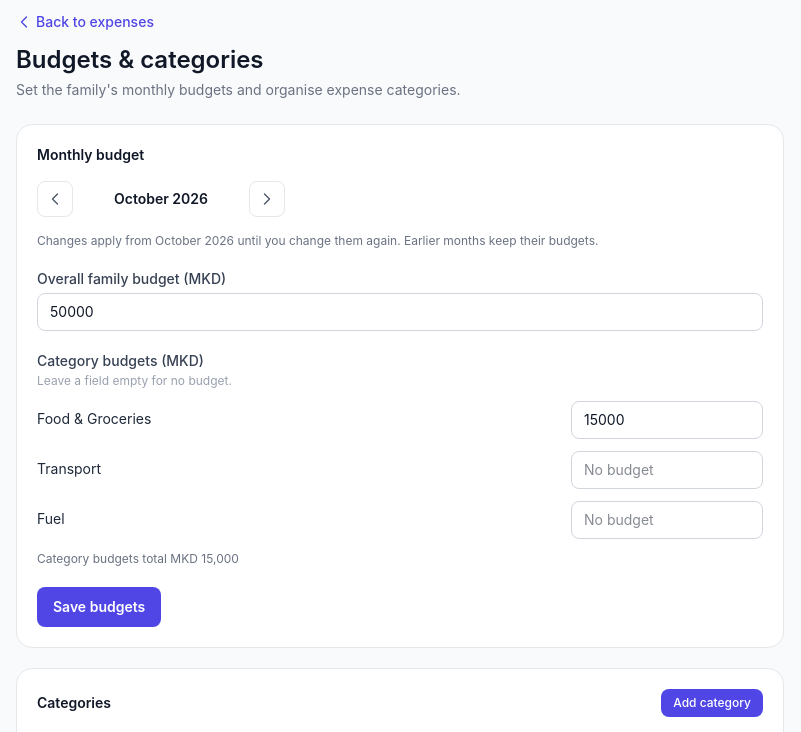
Expense settings: budgets › never shows another month's budgets when a month fails to load
Check: the field labelled "Overall family budget (MKD)" is shown, box [37, 293, 763, 331]
Click the button named "Previous month" at (55, 199), box [37, 181, 73, 217]
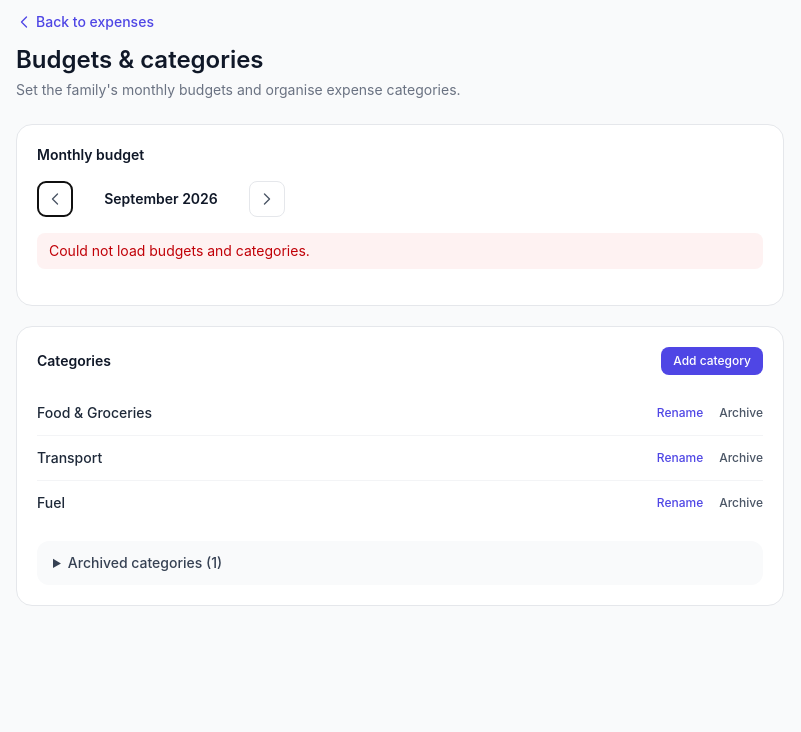
Check: the text "Could not load budgets and categories." is shown, box [37, 233, 763, 269]
Check: the label labelled "Overall family budget (MKD)" is gone
Check: the button "Save budgets" is gone
